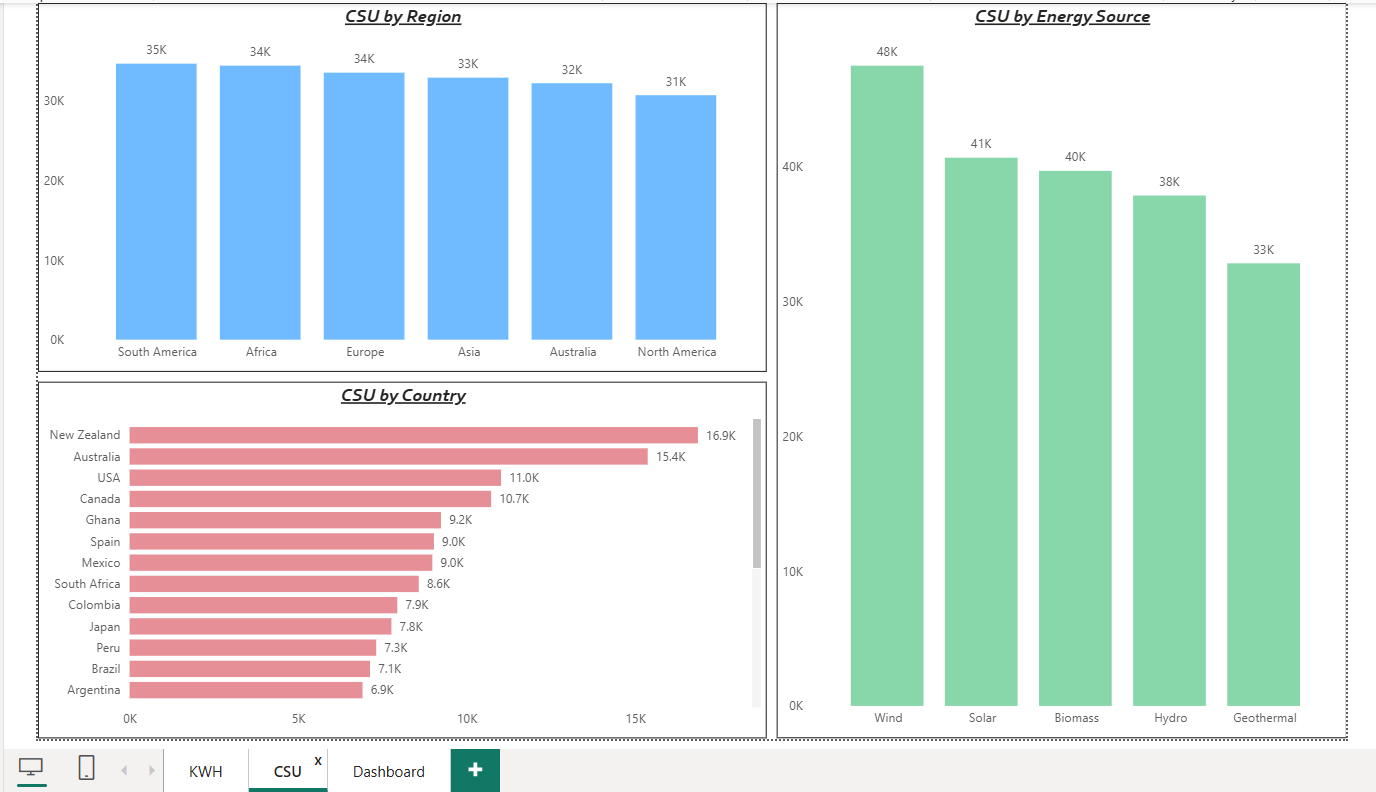

The dashboard page shown, as its layout file describes it:
{"tool":"powerbi","page":{"name":"CSU","canvas":[1280,720],"ordinal":1},"visuals":[{"type":"columnChart","title":"CSU by Region","fields":{"Category":["ENERGY_CONSUMPTION.REGION"],"Y":["Sum(ENERGY_CONSUMPTION.COST_SAVINGS_USD)"]},"box":[0,0,712.9,360.7],"z":0},{"type":"barChart","title":"CSU by Country","fields":{"Y":["Sum(ENERGY_CONSUMPTION.COST_SAVINGS_USD)"],"Category":["ENERGY_CONSUMPTION.COUNTRY"]},"box":[0,371,713,349],"z":1},{"type":"columnChart","title":"CSU by Energy Source","fields":{"Y":["Sum(ENERGY_CONSUMPTION.COST_SAVINGS_USD)"],"Category":["ENERGY_CONSUMPTION.ENERGY_SOURCE"]},"box":[722.7,0,557.6,719],"z":2}]}

Visuals, with their boxes in screenshot pixels (x1, y1, x2, y2):
"CSU by Region" columnChart: rect(32, 4, 761, 372)
"CSU by Country" barChart: rect(32, 383, 761, 740)
"CSU by Energy Source" columnChart: rect(771, 4, 1341, 739)
